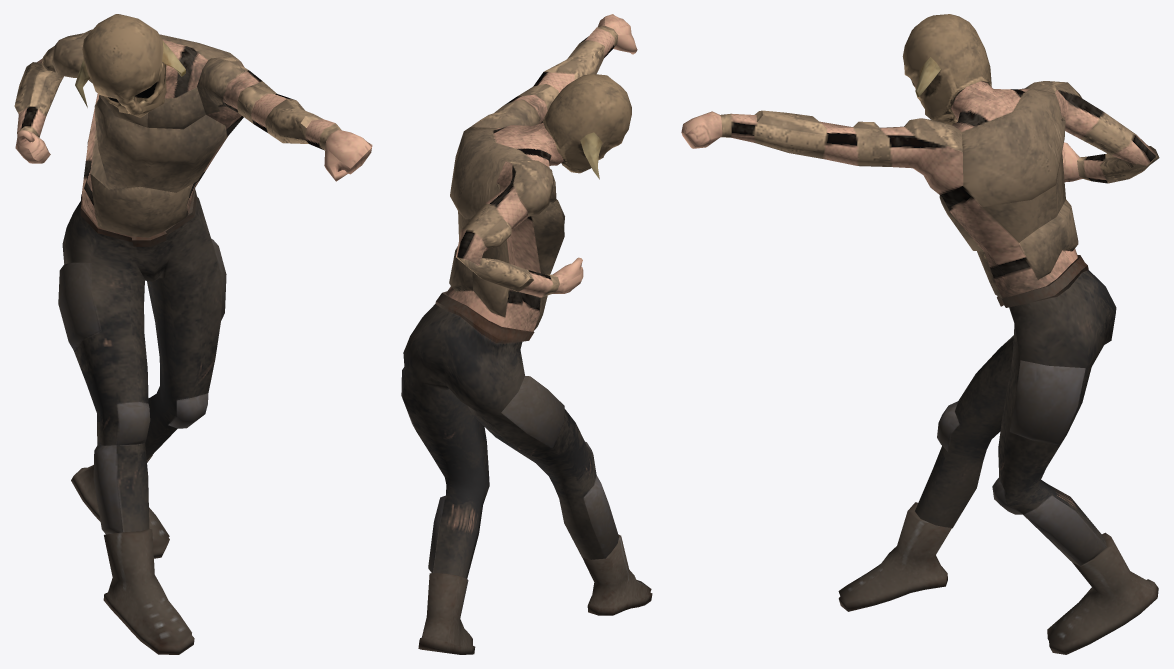
The model's file is Anim_ataque_d2_npc1.0033.obj.
The picture shows the model from 3 angles, left to right: view 1: azimuth 30°, elevation 25°; view 2: azimuth 150°, elevation 25°; view 3: azimuth 270°, elevation 25°; orthographic projection. The views are drawn at different scales.
Visible parts, largest first — view 1: NPC2; view 2: NPC2; view 3: NPC2.
Part boxes in pixels (box(x1,y1,x2,y2)): NPC2: box(14, 14, 372, 654); NPC2: box(401, 14, 652, 654); NPC2: box(681, 14, 1159, 654).
Size of the model in its own units: 2.88 by 8.61 by 6.32.
